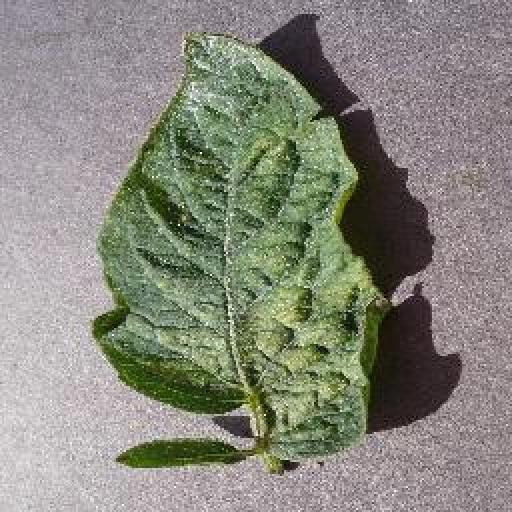disease_tomato: (90, 31, 395, 469)
